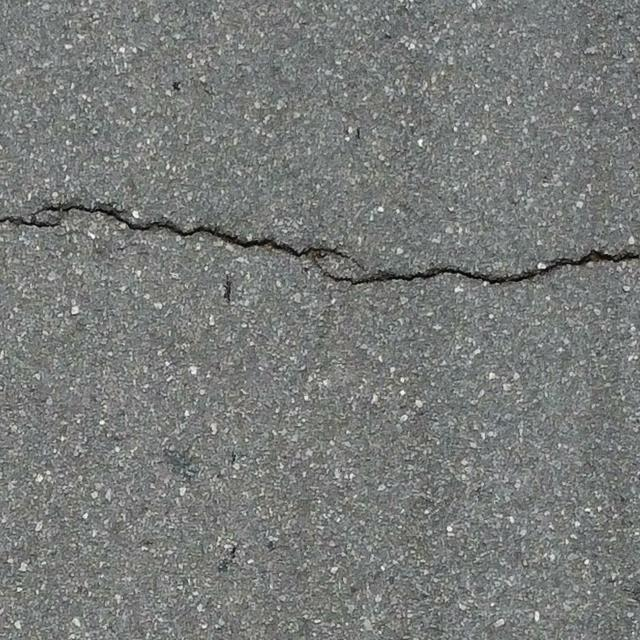TransverseCrack: (1, 202, 640, 287)
